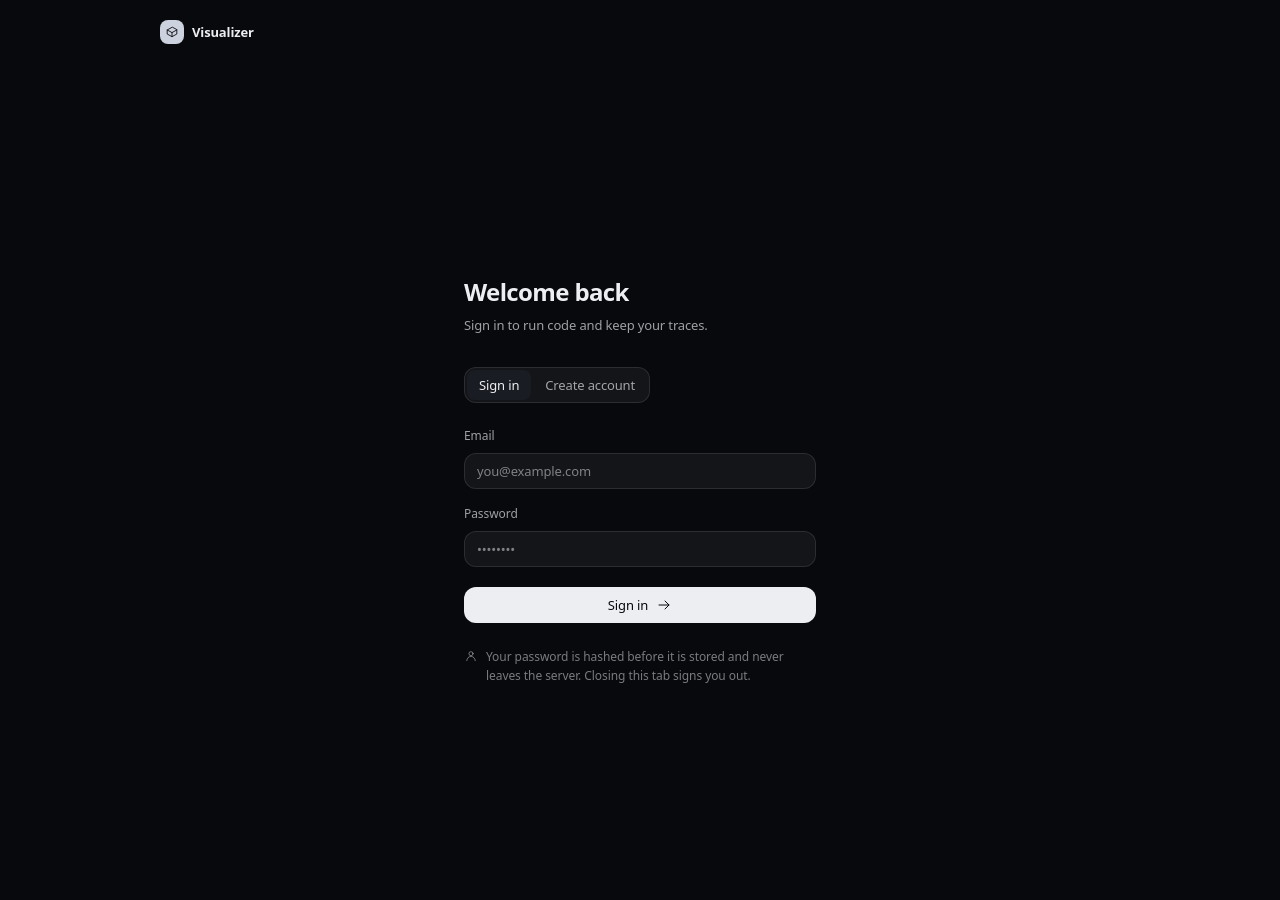
it: sign in › takes a name when registering
Click the button "Create account".
click(590, 385)  # box x1=533 y1=370 x2=647 y2=400
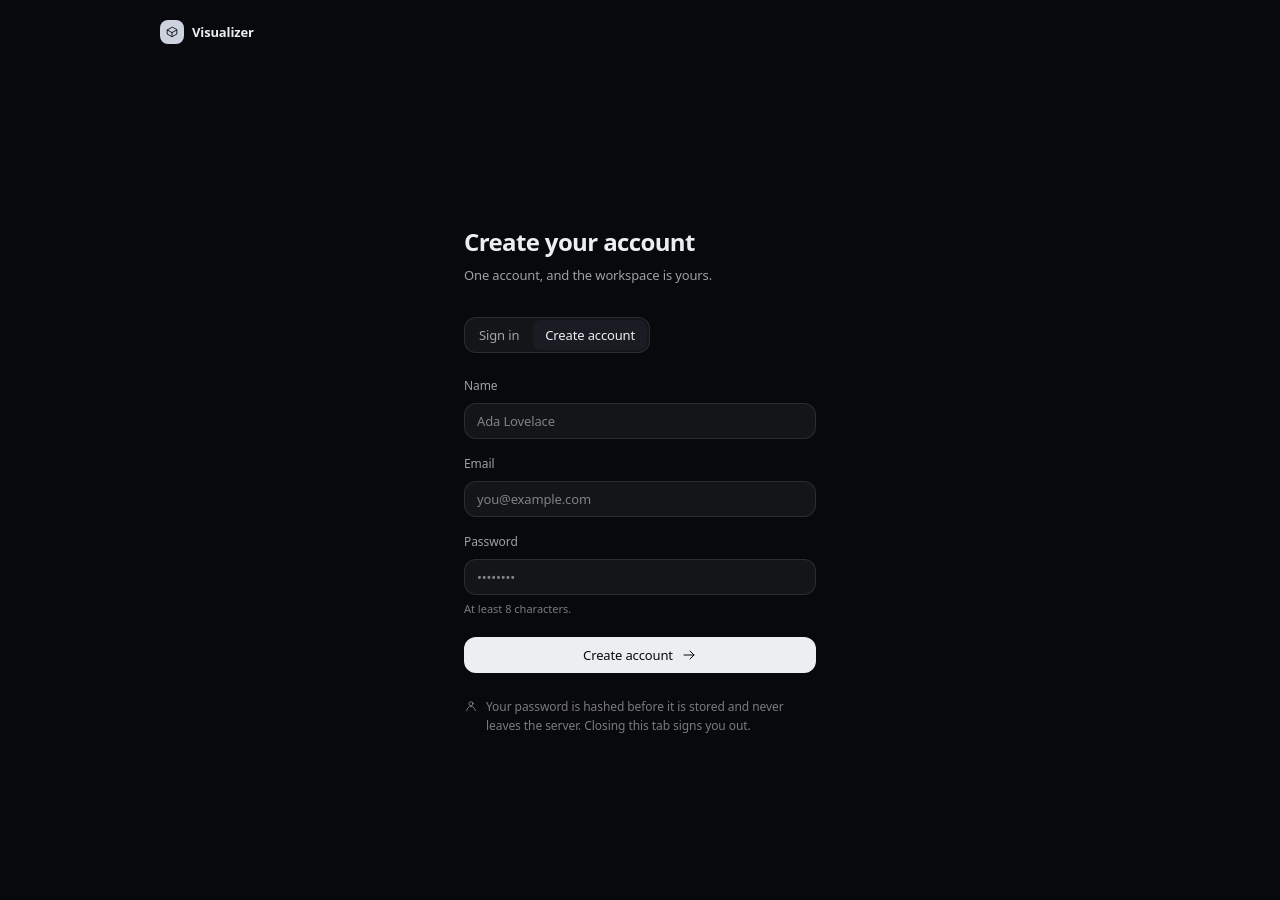
Type "Grace Hopper" into the field labelled "Name".
click(640, 421); type("Grace Hopper")  # box x1=464 y1=403 x2=816 y2=439
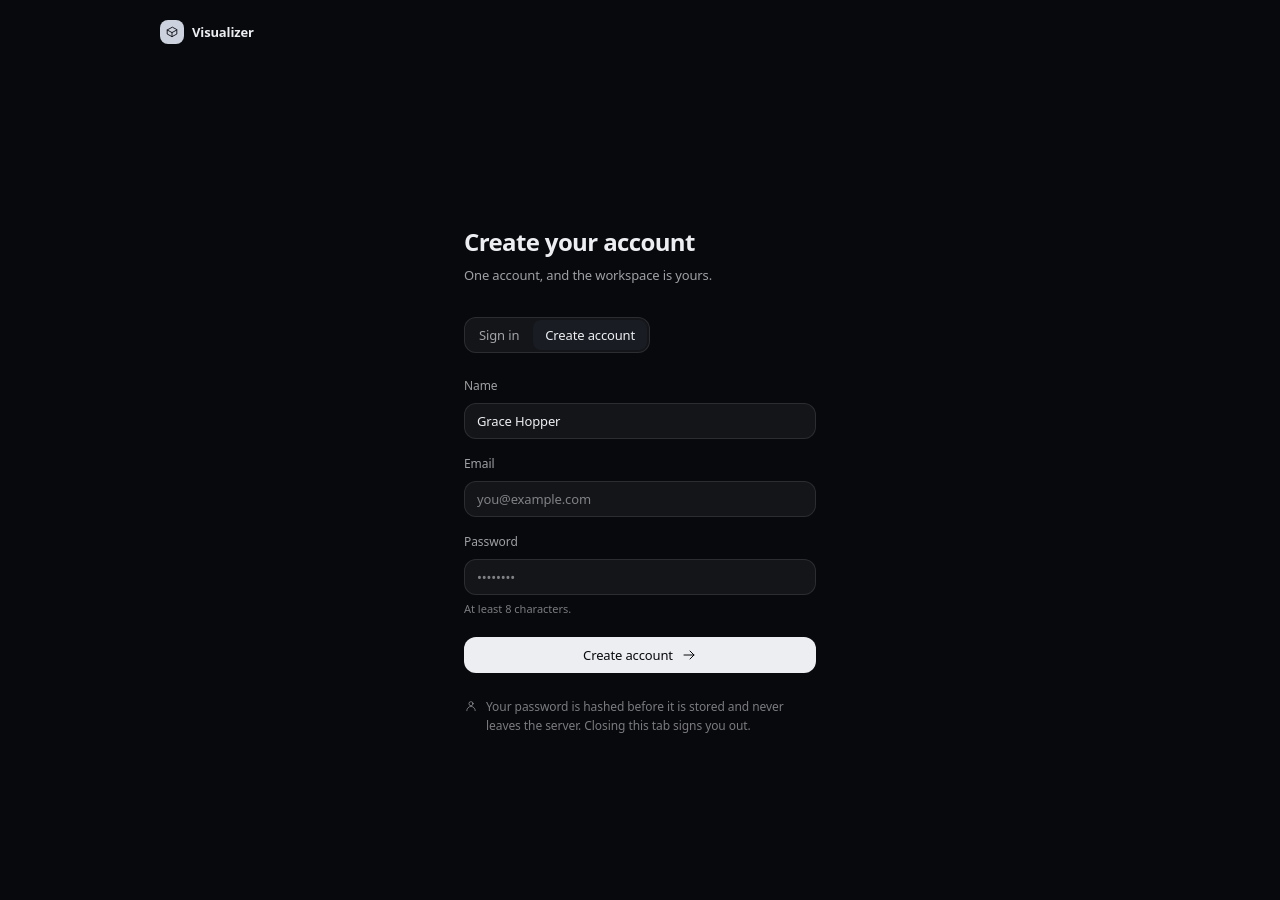
Type "grace@example.com" into the field labelled "Email".
click(640, 499); type("grace@example.com")  # box x1=464 y1=481 x2=816 y2=517
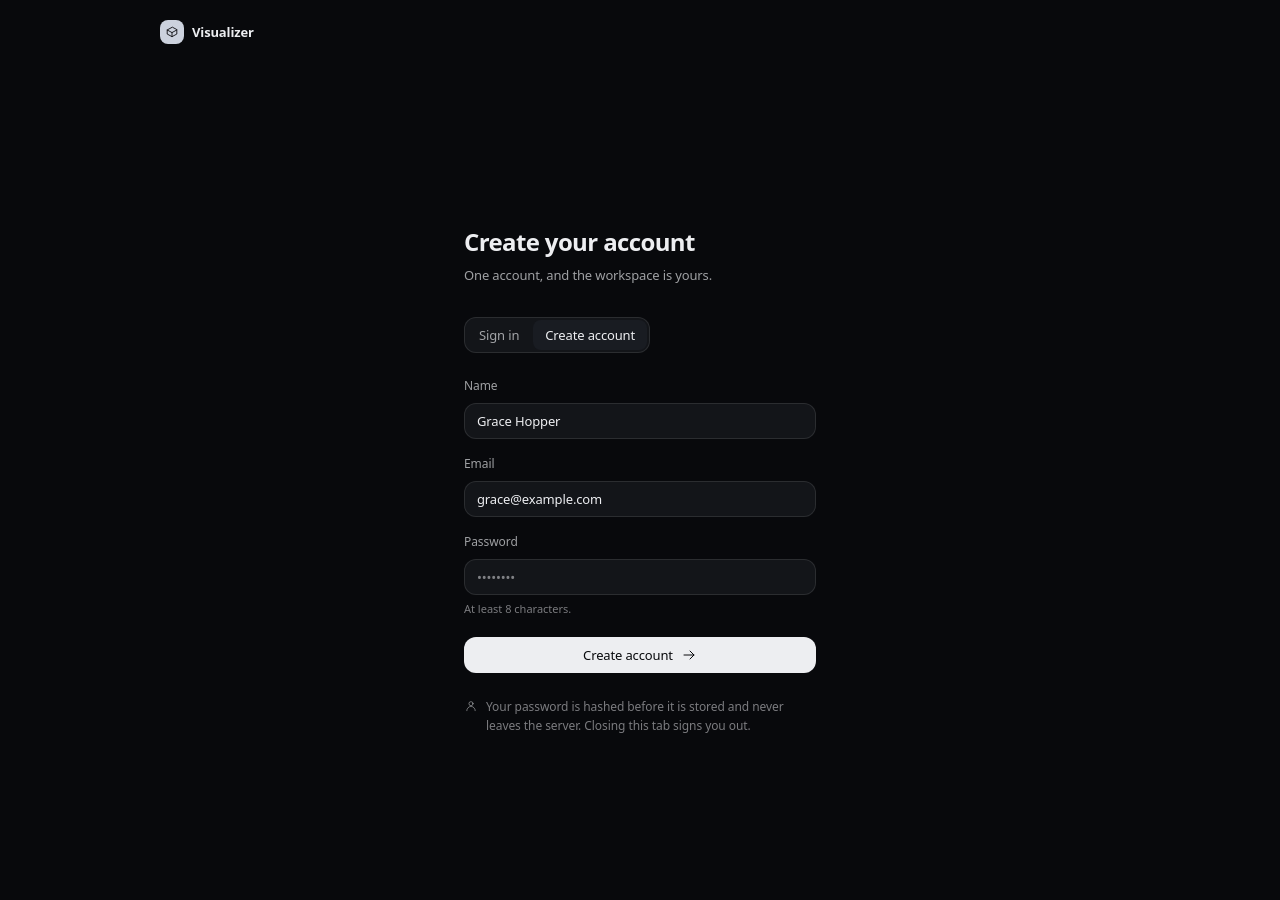
Type "hunter2!!" into the password field labelled "Password".
click(640, 577); type("hunter2!!")  # box x1=464 y1=559 x2=816 y2=595
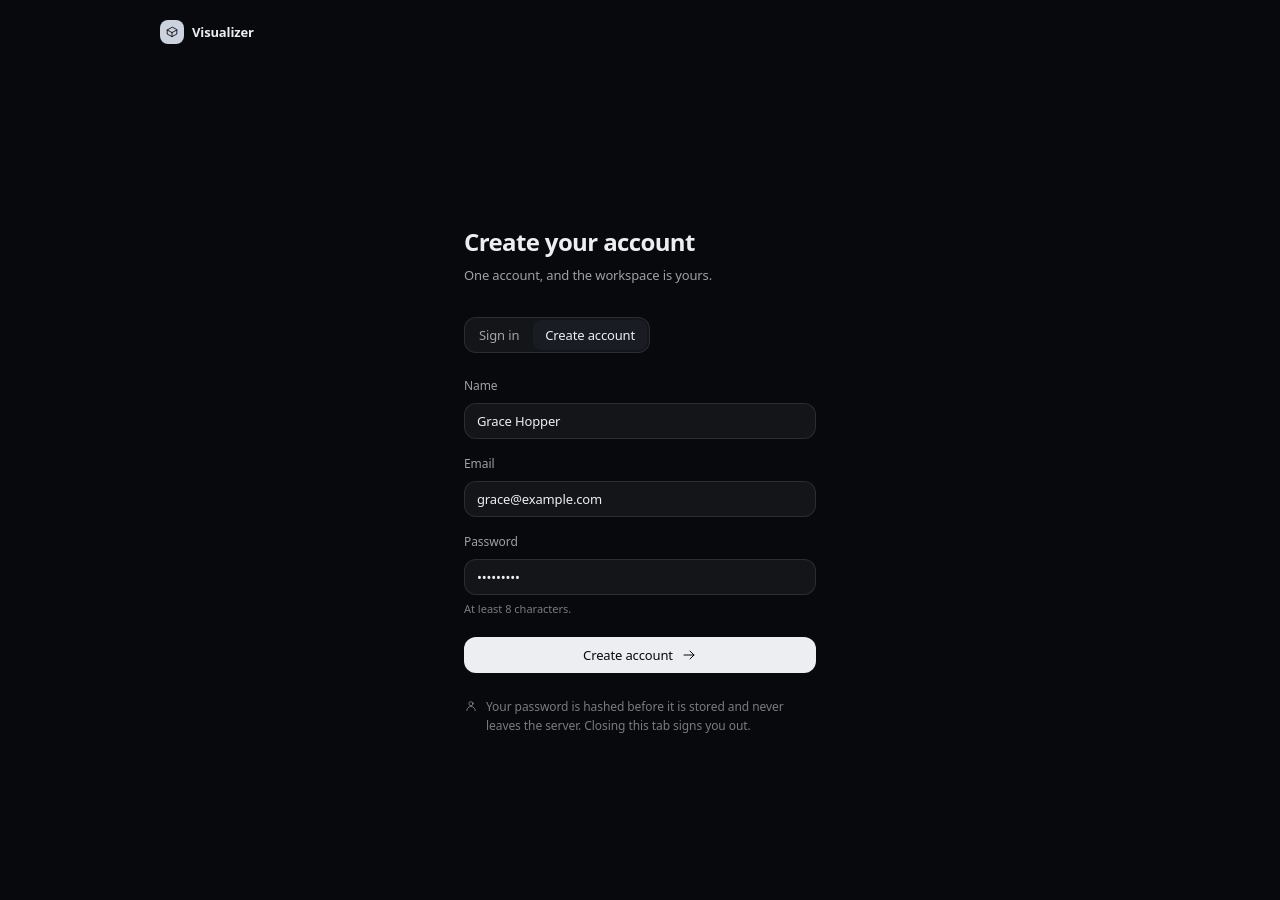
Click the button "Create account" below "At least 8 characters.".
click(640, 655)  # box x1=464 y1=637 x2=816 y2=673
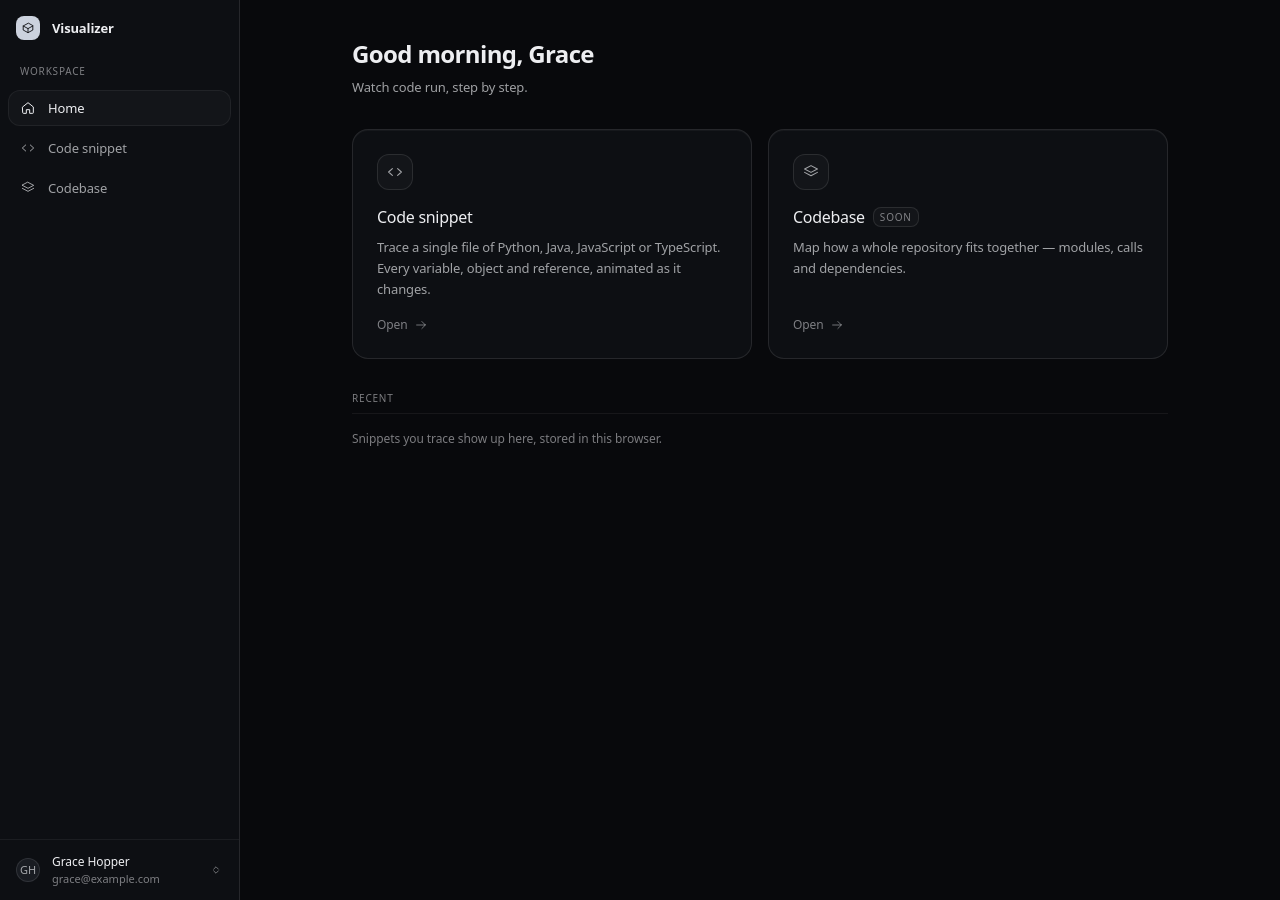
Expected: the navigation bar is shown, x1=8 y1=64 x2=231 y2=197
